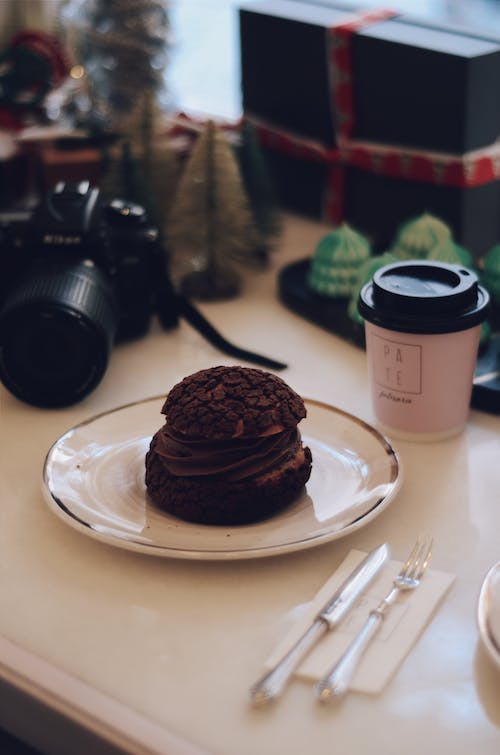knife: (248, 538, 389, 707)
